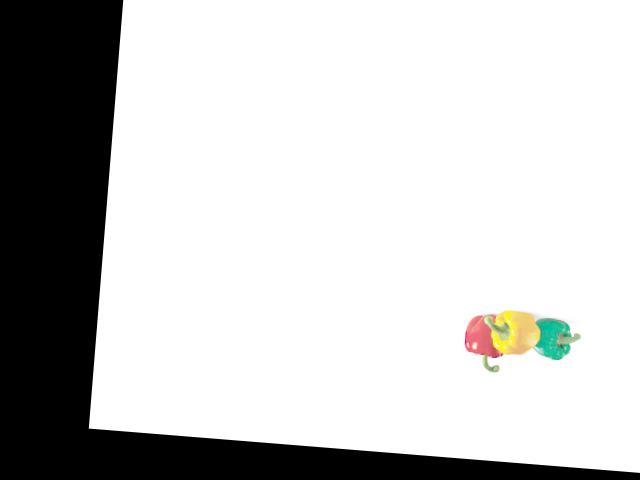bell_pepper: (526, 312, 580, 365)
